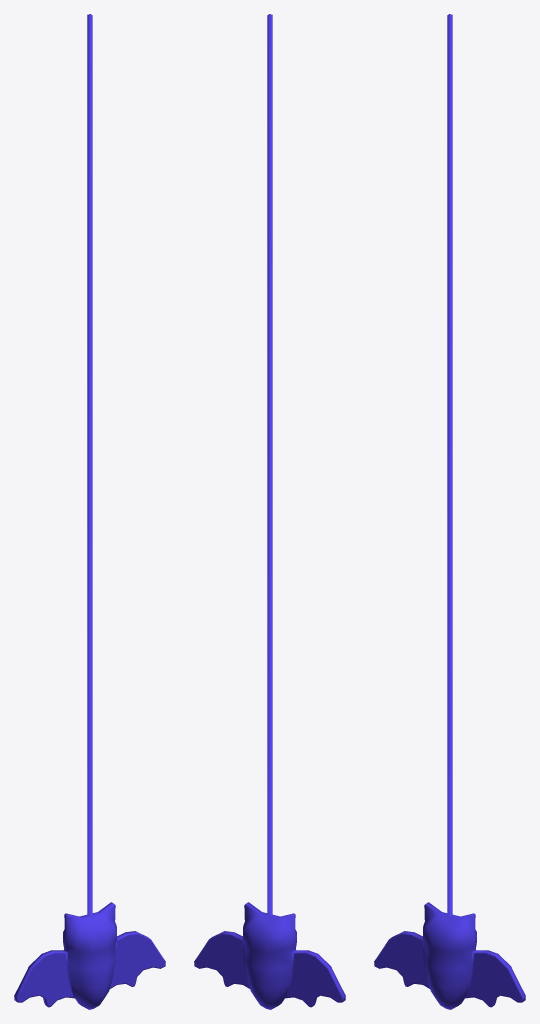
Rendered from SM_BatDecoration.fbx.
The picture shows the model from 3 angles, left to right: view 1: azimuth 30°, elevation 25°; view 2: azimuth 150°, elevation 25°; view 3: azimuth 330°, elevation 25°; orthographic projection.
Parts seen in each view (by area): view 1: SM_BatDecoration; view 2: SM_BatDecoration; view 3: SM_BatDecoration.
Boxes of the visible parts, left/top/right/bottom form: SM_BatDecoration: left=14, top=14, right=165, bottom=1009; SM_BatDecoration: left=194, top=14, right=345, bottom=1009; SM_BatDecoration: left=374, top=14, right=525, bottom=1009.
Size of the model in its own units: 0.927 by 0.2254 by 5.92.
